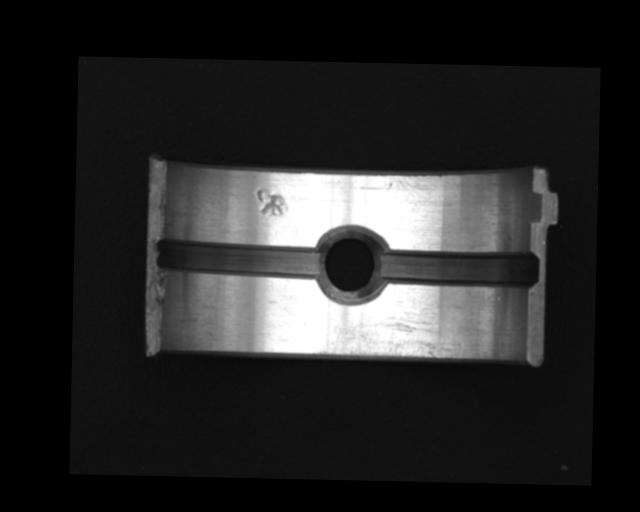bruise: (255, 188, 290, 217)
gap: (153, 234, 325, 280), (377, 248, 539, 288)
hole: (313, 224, 388, 305)
scratch: (311, 310, 466, 360)
